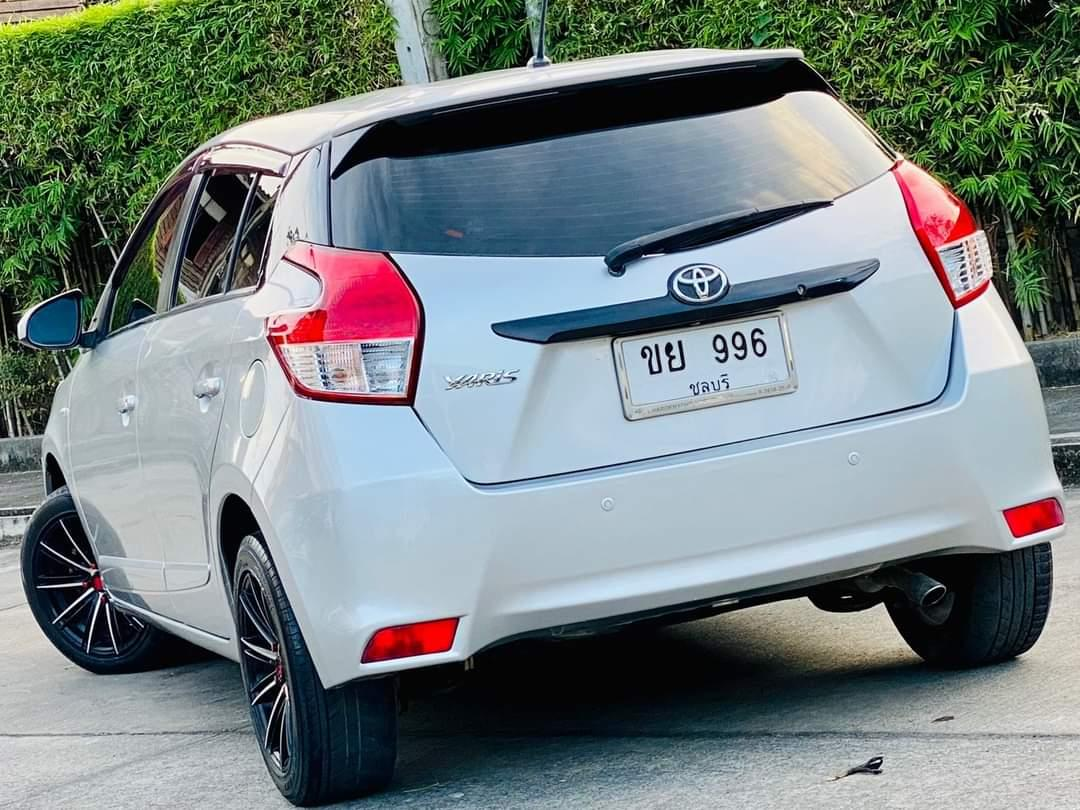license-plate: (607, 308, 800, 427)
